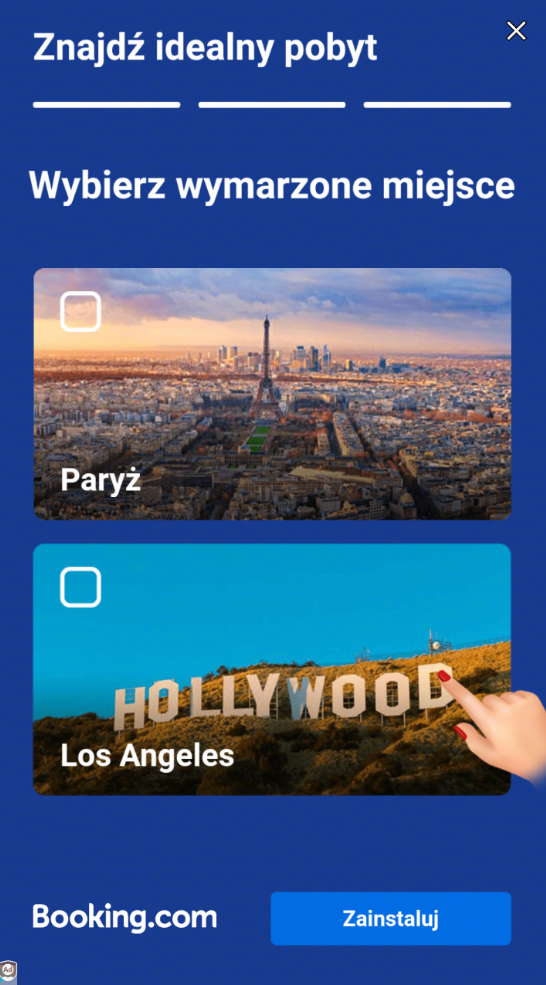close_button: (501, 16, 531, 46)
